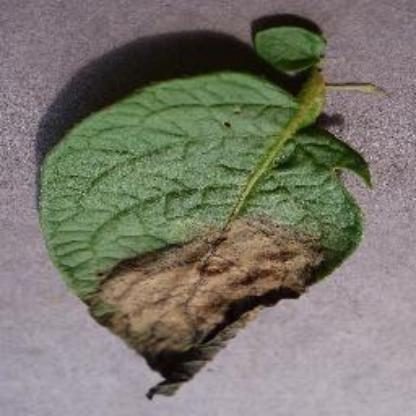Late-Blight: (42, 13, 394, 406)
